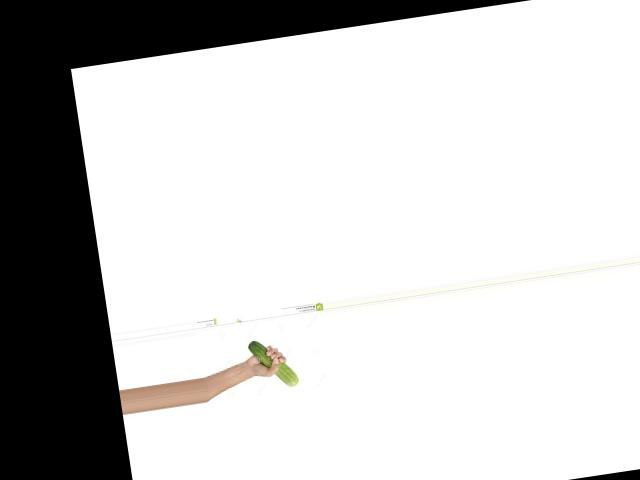cucumber: (245, 334, 298, 391)
